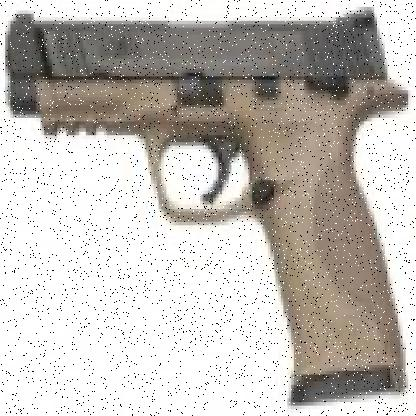pistol: (10, 14, 408, 395)
